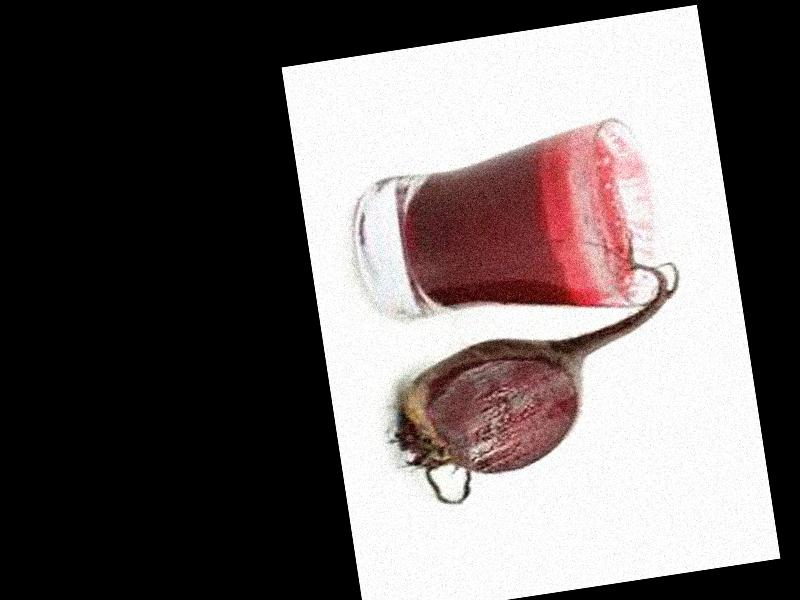Beet: (368, 233, 707, 510)
